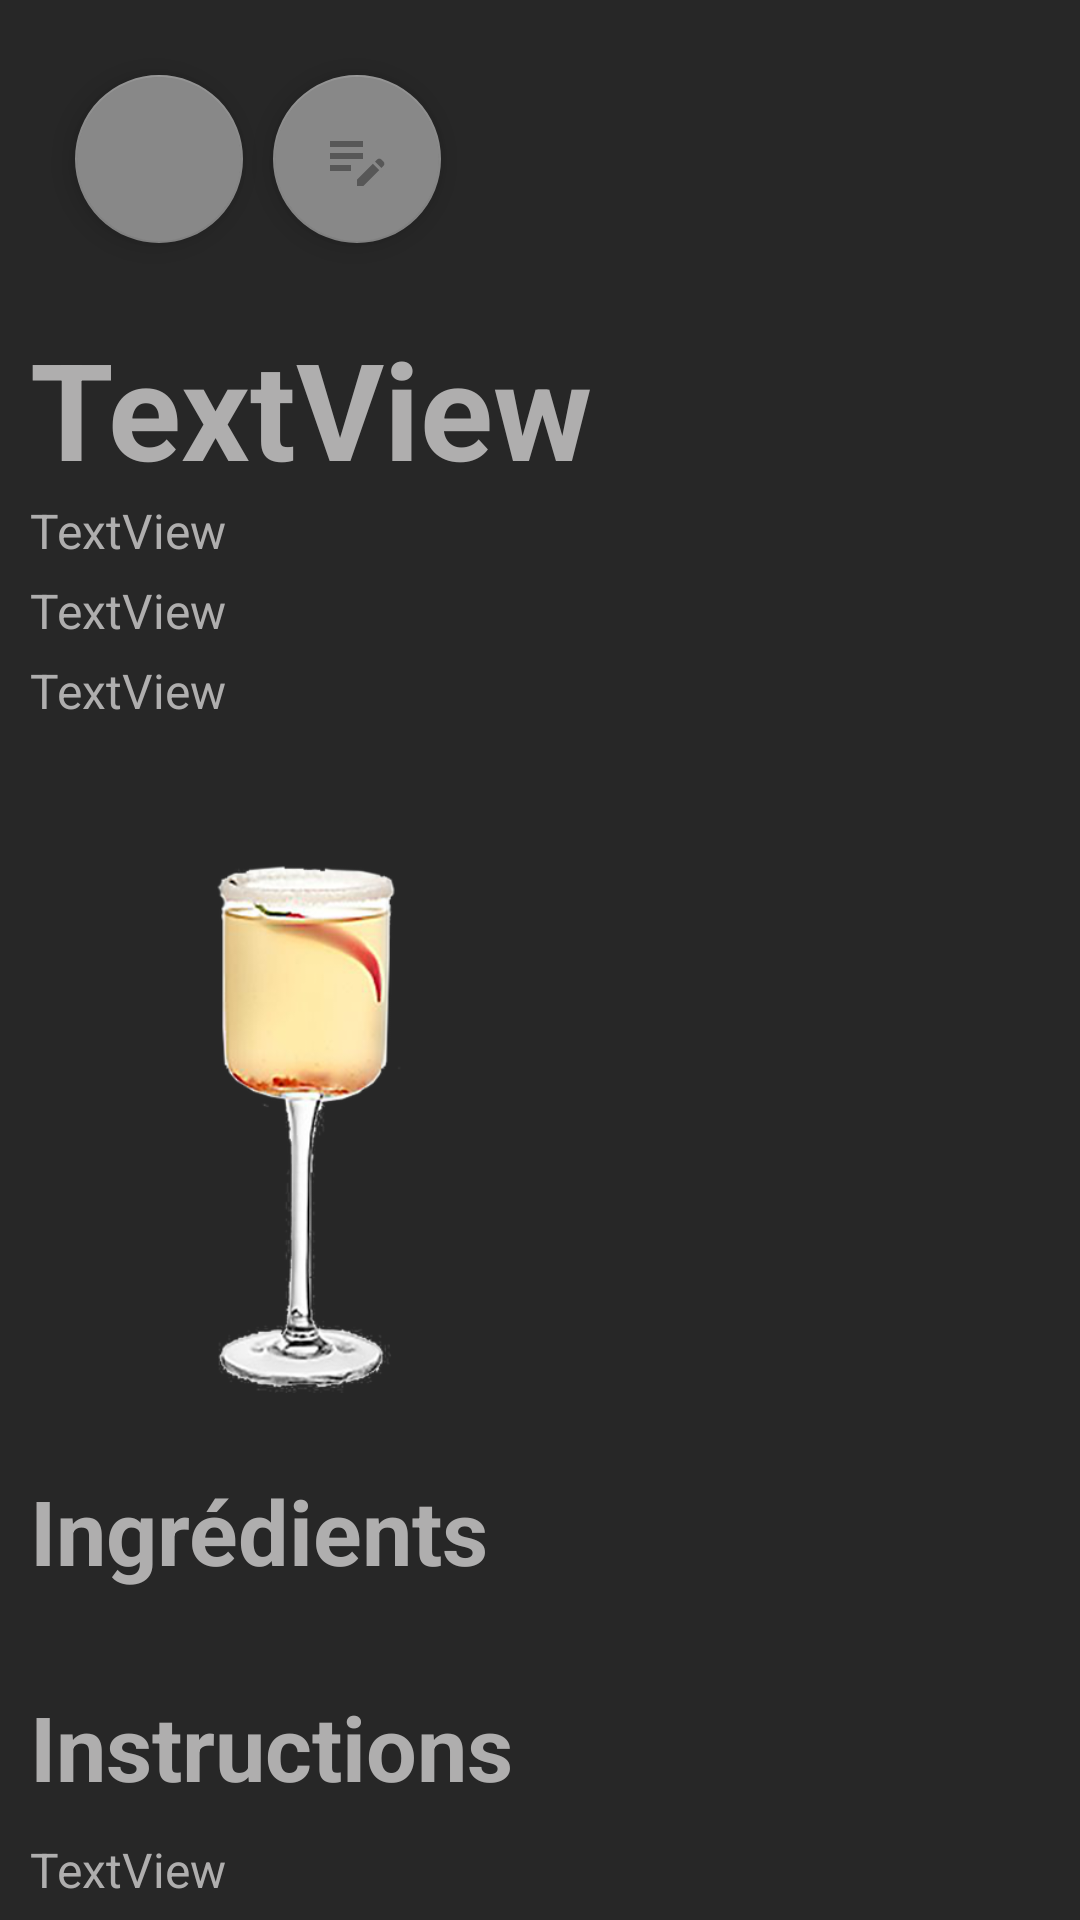

Screen size 1080*1920. Icon name, then its box in pixels as (x1, y1, x2, y2):
modify step: (273, 75, 441, 243)
